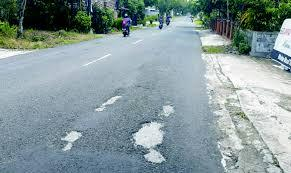Pothole: (124, 105, 175, 171), (89, 87, 124, 114), (59, 127, 81, 154)
